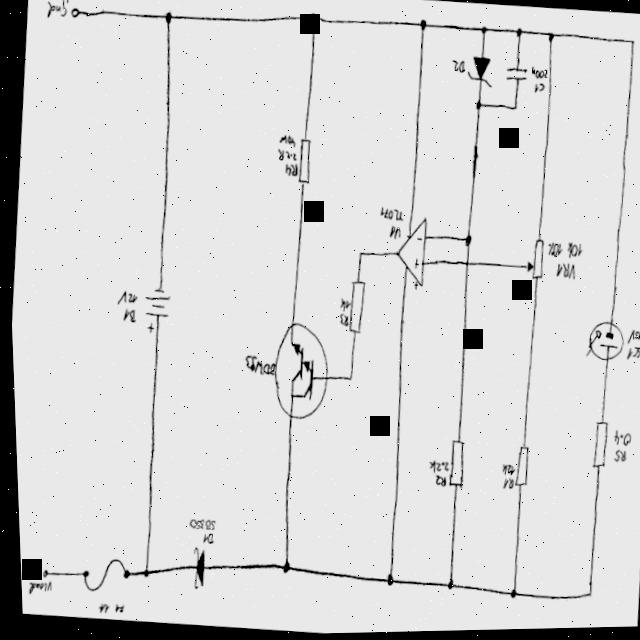capacitor: (503, 66, 528, 85)
crossover: (461, 260, 467, 269)
diode: (466, 57, 492, 90), (187, 546, 201, 590)
junction: (162, 10, 173, 26), (417, 18, 427, 33), (276, 560, 286, 575), (380, 572, 389, 588), (307, 12, 317, 25), (513, 28, 522, 40), (441, 580, 449, 593), (461, 235, 469, 248), (504, 589, 512, 601), (479, 26, 487, 37), (473, 101, 481, 112), (546, 33, 554, 44), (137, 567, 145, 578), (581, 591, 588, 600), (628, 39, 635, 48), (510, 105, 516, 114), (344, 375, 350, 383), (355, 250, 360, 259)
resistor: (344, 280, 363, 335), (586, 421, 605, 472), (523, 238, 544, 282), (444, 440, 462, 489), (294, 137, 311, 186), (510, 445, 526, 489)
source: (139, 285, 168, 334)
terminal: (67, 4, 83, 20), (36, 568, 45, 577)
text: (240, 354, 271, 377), (42, 0, 68, 21), (182, 516, 212, 533), (376, 206, 402, 224), (91, 599, 119, 615), (22, 578, 48, 595), (552, 263, 574, 283), (113, 288, 135, 307), (608, 431, 628, 449), (623, 329, 640, 348), (563, 242, 580, 261), (423, 460, 444, 475), (543, 241, 560, 259), (118, 307, 134, 325), (622, 346, 638, 364), (274, 148, 294, 162), (528, 68, 547, 82), (335, 299, 347, 321), (450, 60, 466, 76), (335, 307, 347, 328), (277, 134, 294, 148), (281, 163, 296, 178), (195, 531, 210, 546), (386, 226, 400, 242), (608, 450, 622, 465), (498, 476, 511, 492), (497, 464, 511, 477), (531, 82, 544, 96), (430, 475, 442, 488), (411, 257, 417, 271)
transistor: (267, 321, 327, 423)
